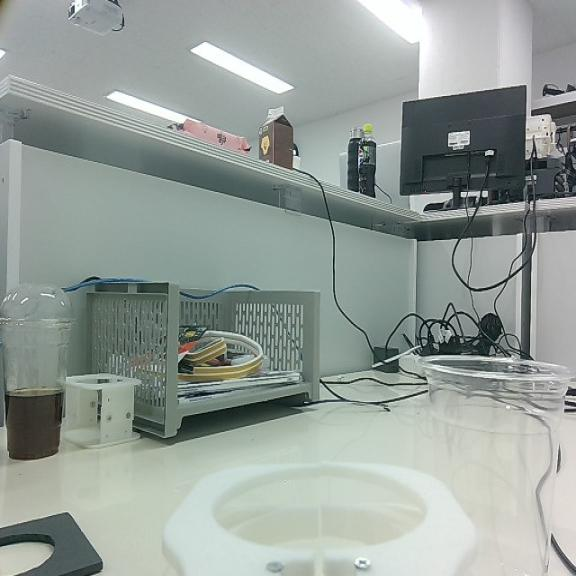Plastik: (425, 358, 568, 574)
